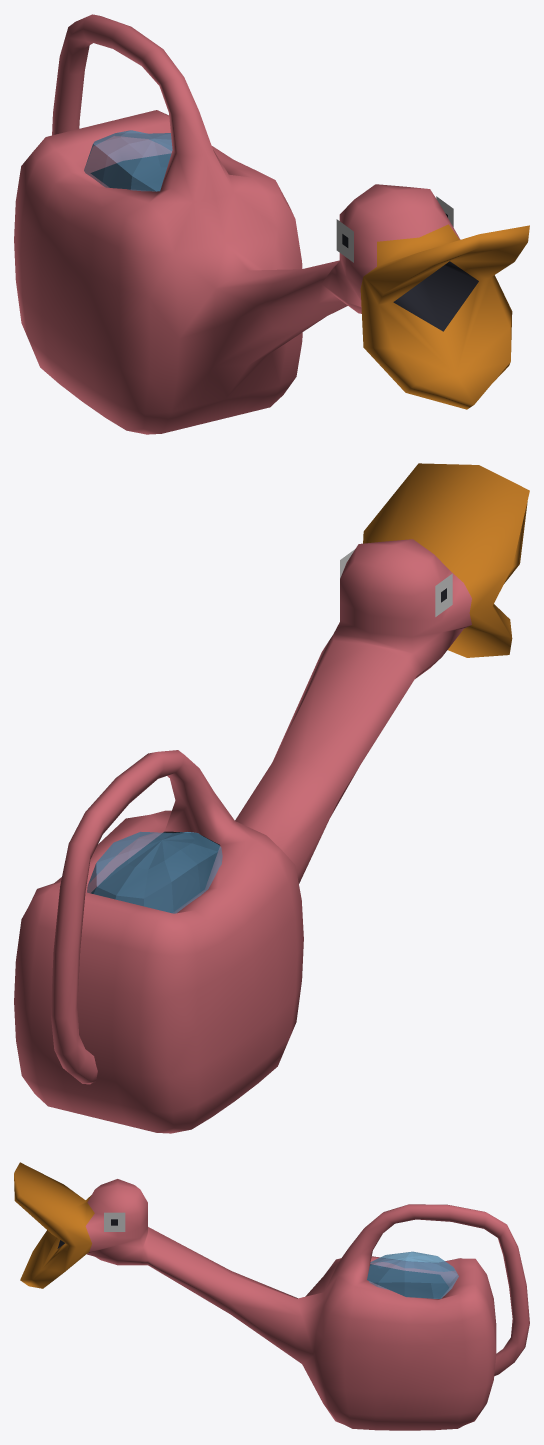
Rendered from LD_Can.fbx.
The picture shows the model from 3 angles, top to bottom: view 1: azimuth 30°, elevation 25°; view 2: azimuth 150°, elevation 25°; view 3: azimuth 270°, elevation 25°; orthographic projection. The views are drawn at different scales.
Parts seen in each view (by area): view 1: Watering Duck, Water Blob, DuckEyes; view 2: Watering Duck, Water Blob; view 3: Watering Duck, Water Blob, DuckEyes.
Part boxes in pixels (box(x1,y1,x2,y2)): Watering Duck: box(14, 14, 529, 434); Water Blob: box(84, 130, 172, 191); DuckEyes: box(336, 196, 453, 262); Watering Duck: box(14, 463, 529, 1133); Water Blob: box(87, 831, 222, 913); Watering Duck: box(14, 1162, 529, 1430); Water Blob: box(367, 1251, 458, 1298); DuckEyes: box(104, 1212, 125, 1231).
Size of the model in its own units: 45.09 by 86.69 by 169.
